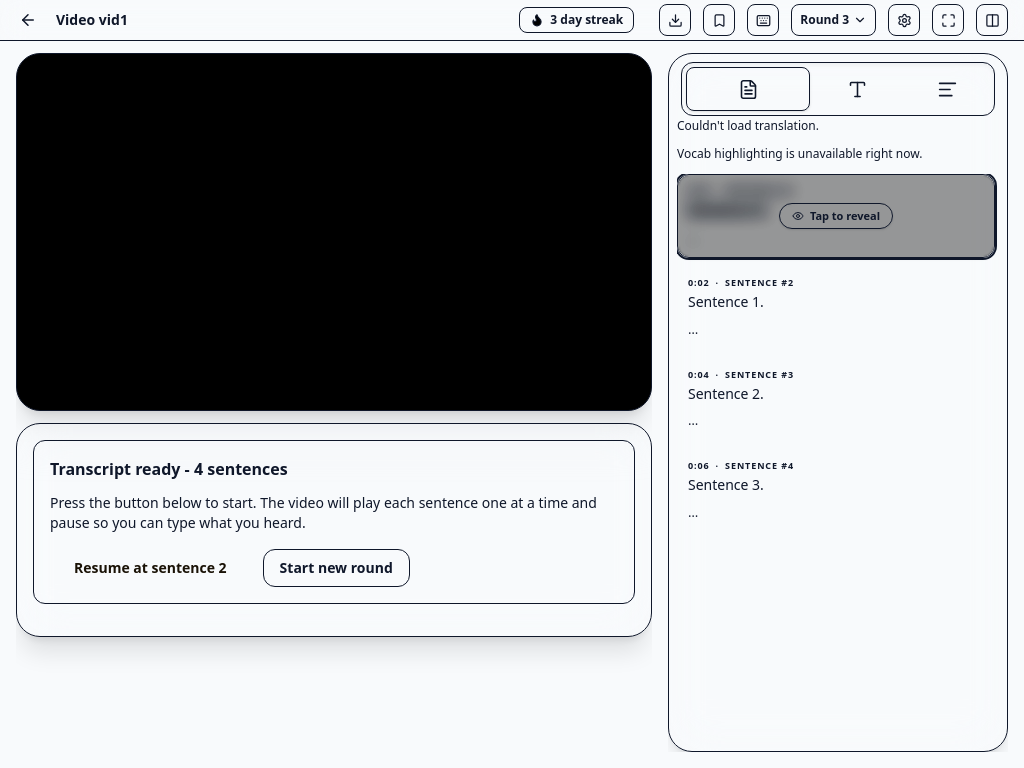
Test: Learning Reports P2 follow-up — the Round menu and the one new-round flow › 1–5, 10: an active round's report opens before the final sentence — read-only, paused, 'Round in progress' — and Back to practice restores everything
Click the button "Resume at sentence 2".
click(150, 568)  # box x1=50 y1=550 x2=251 y2=586
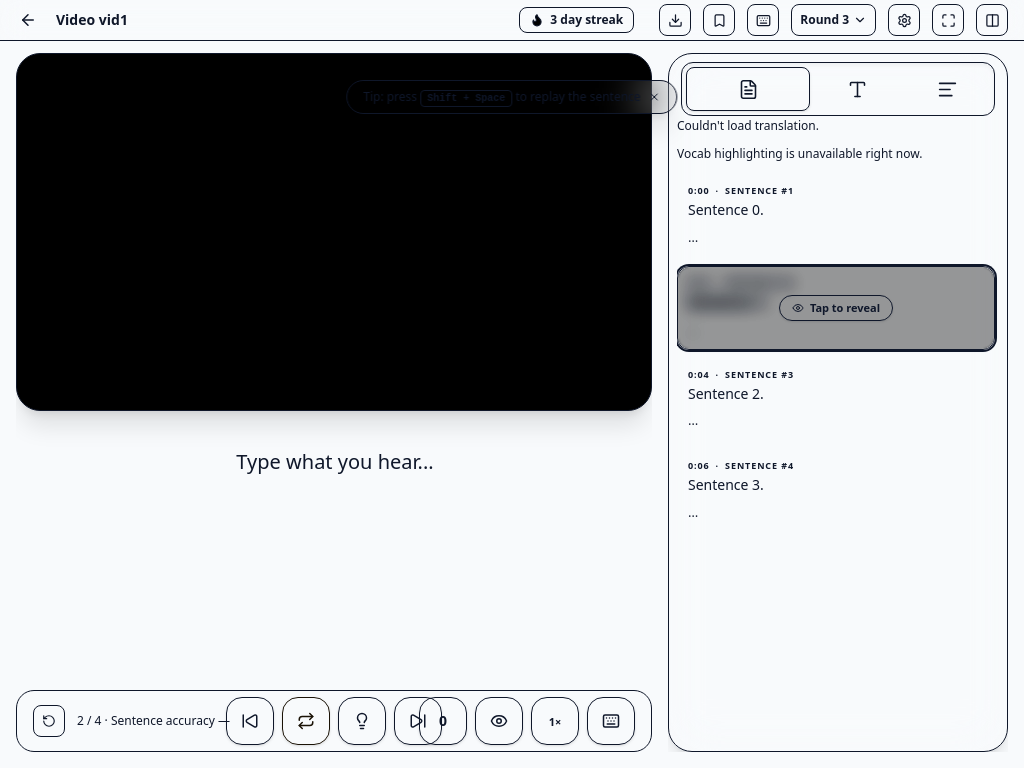
Replace the text in the field labelled "Type what you hear" with "halftyped" at (335, 461), box x1=236 y1=448 x2=434 y2=475
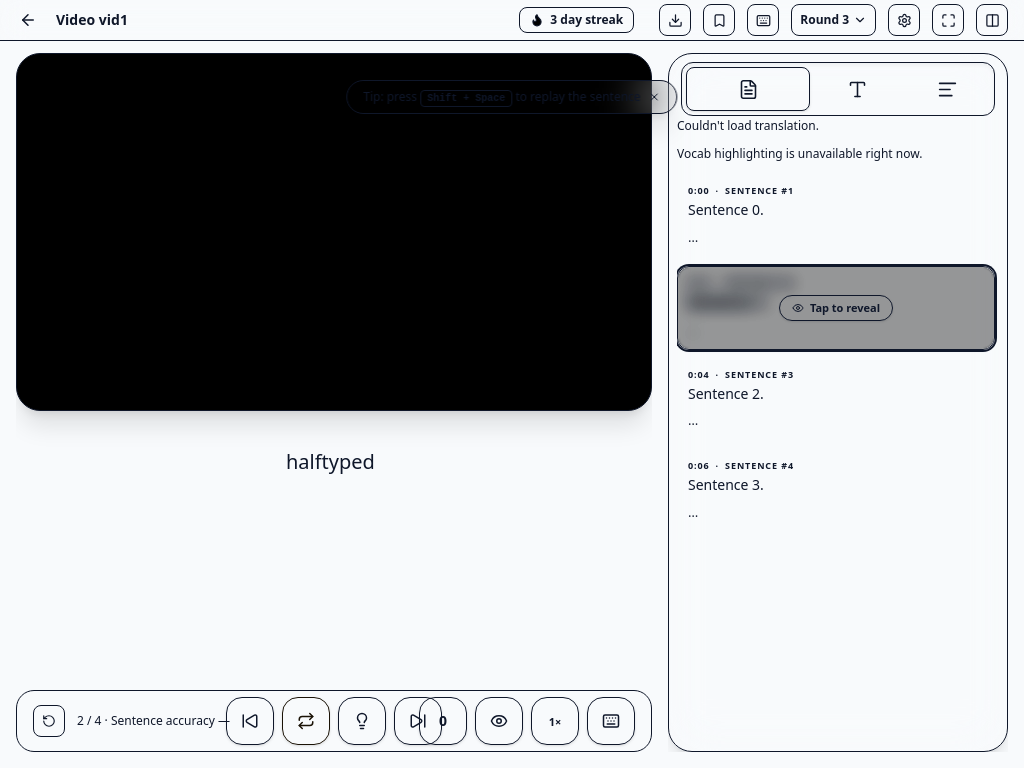
Expected: the element named "Right panel sections" is shown, x1=681 y1=62 x2=995 y2=116
Expected: the text with test id "round-menu-label" reads "Round 3", x1=800 y1=11 x2=849 y2=28
Click the button with aria-label "Round menu".
click(834, 20)  # box x1=791 y1=4 x2=876 y2=36
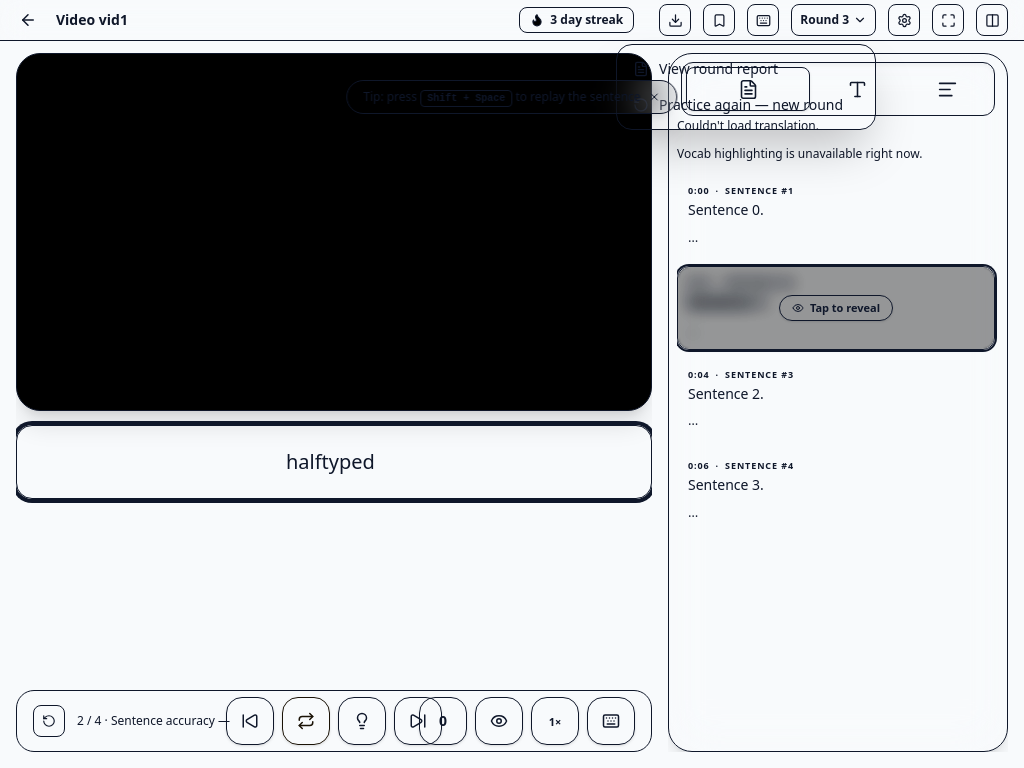
Click the menu item "View round report".
click(746, 69)  # box x1=623 y1=51 x2=869 y2=87
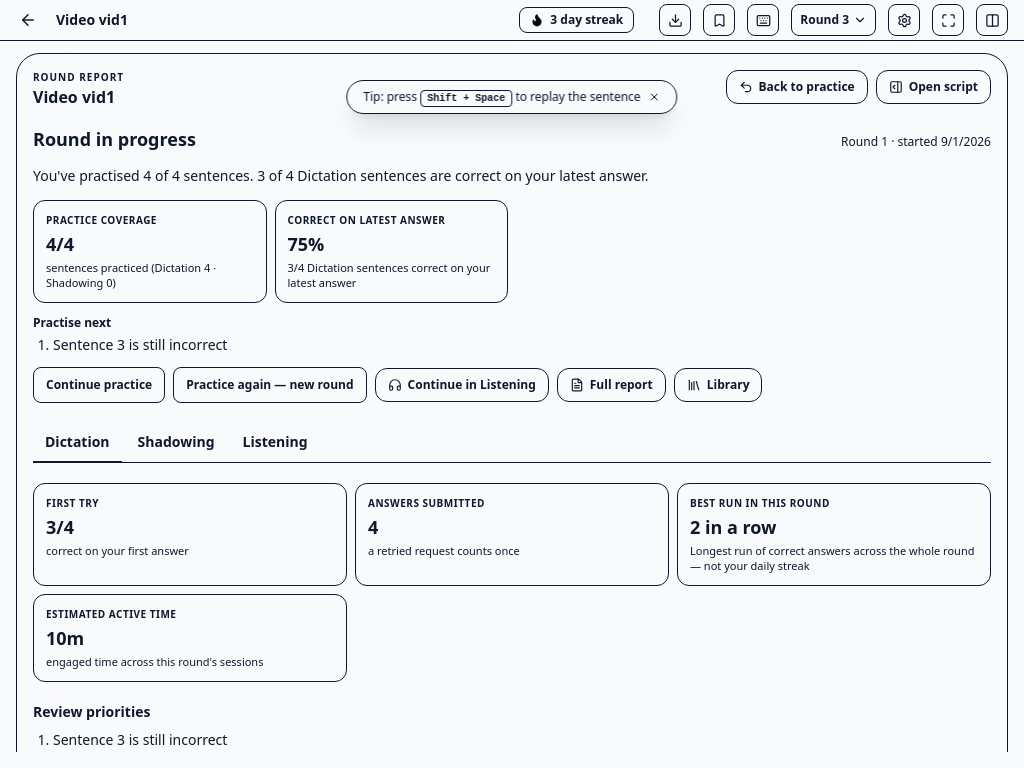
Expected: the element with test id "practice-report-view" is shown
Expected: the element with test id "report-coverage" is shown, x1=33 y1=200 x2=266 y2=303
Expected: the element with test id "practice-report-view" shows "Round in progress", x1=33 y1=127 x2=196 y2=151
Click the tab "Shadowing".
click(176, 443)  # box x1=126 y1=423 x2=226 y2=463
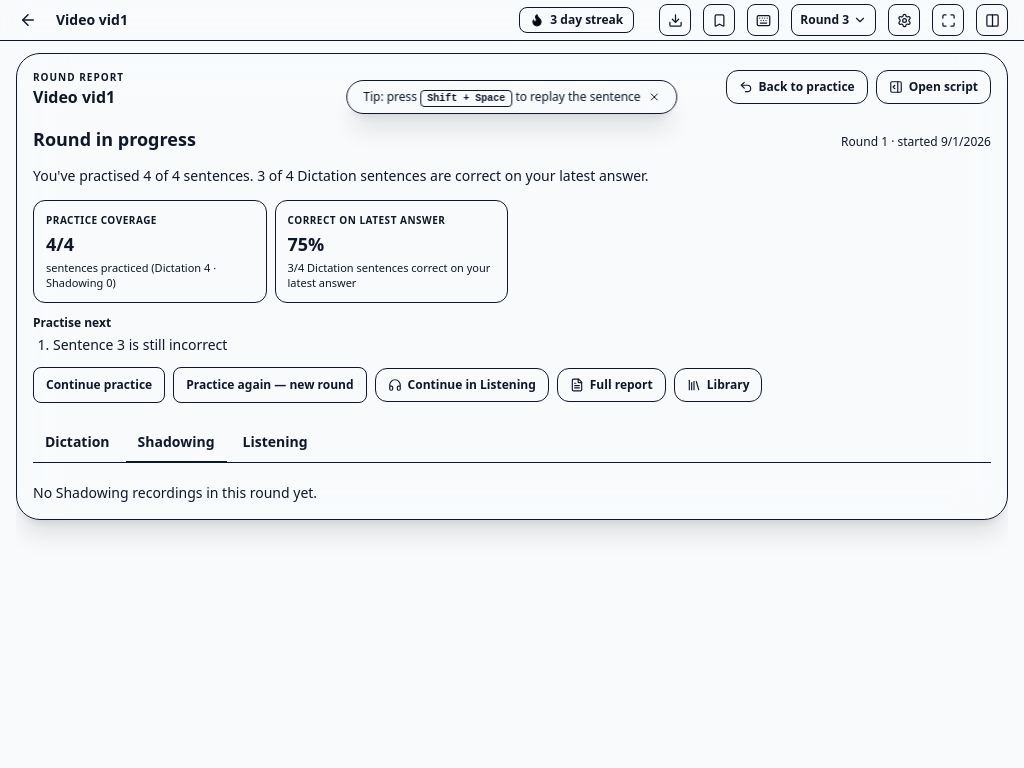
Press Space
Click the button "Back to practice".
click(797, 87)  # box x1=726 y1=70 x2=868 y2=104
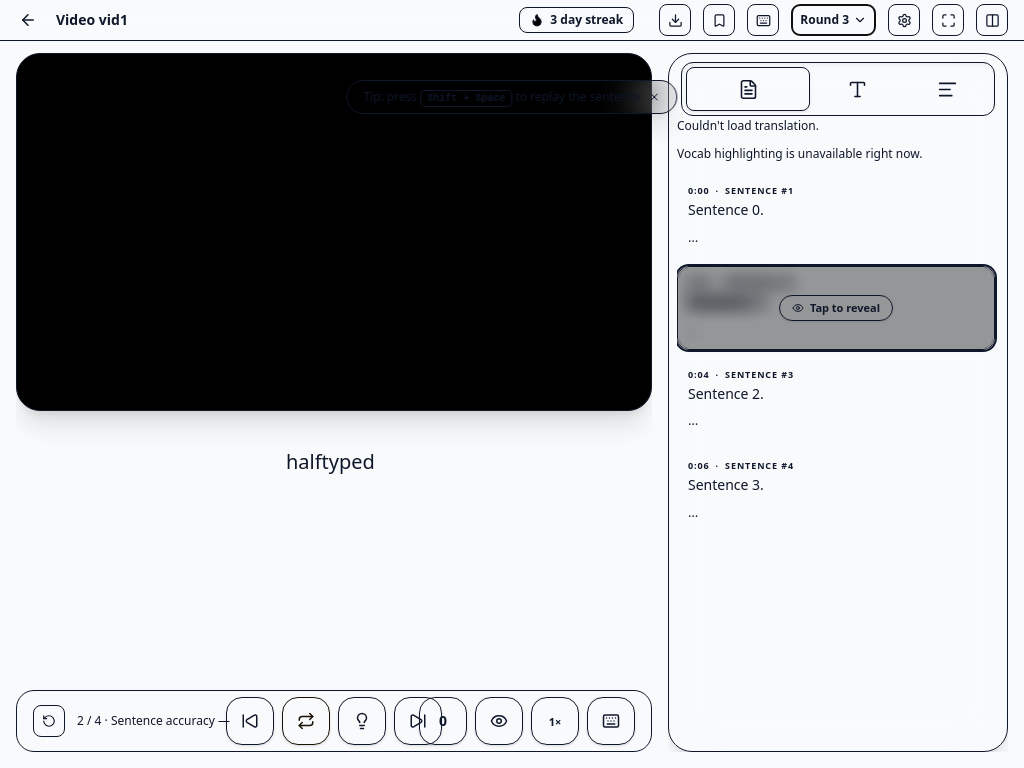
Expected: the element with test id "practice-report-view" is gone
Expected: the element named "Right panel sections" is shown, x1=681 y1=62 x2=995 y2=116
Expected: the element named "Type what you hear" holds "halftyped", x1=286 y1=448 x2=375 y2=475
